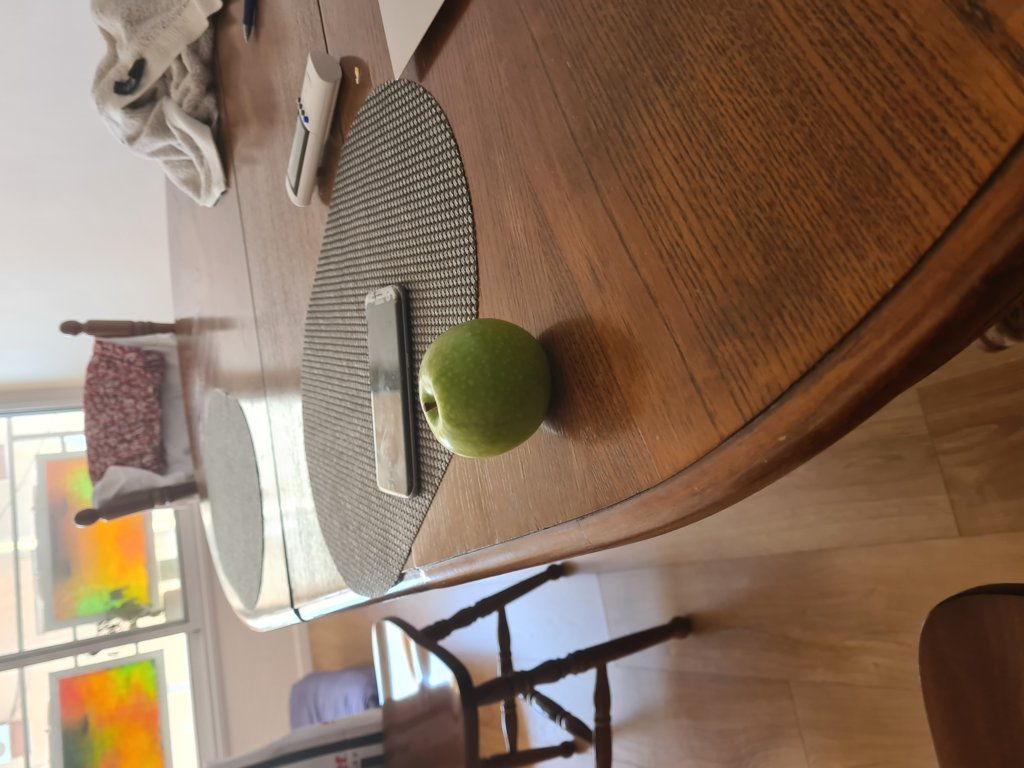apple: (421, 313, 552, 453)
